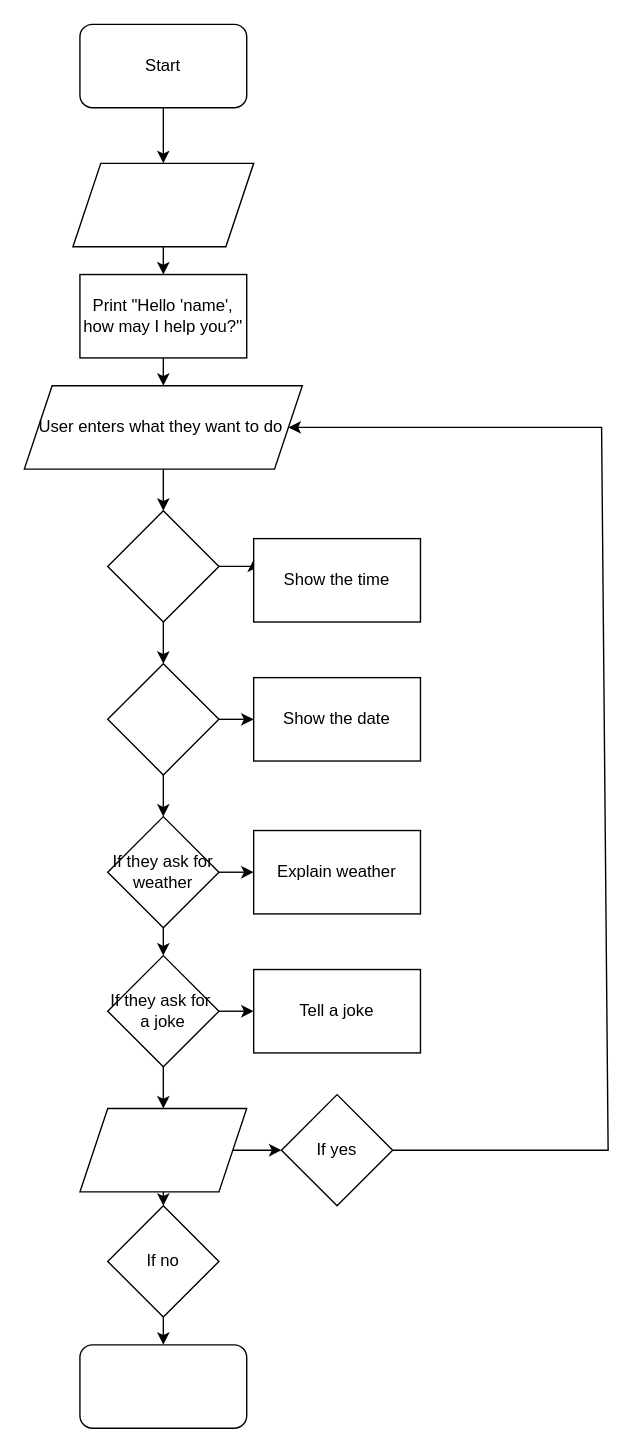
Image size: 644x1453. Some labels were removed from this diagram. Each missing label, with the box of its shape:
Continue?: (79, 1107, 247, 1192)
End: (79, 1343, 247, 1428)
If they ask for the date: (106, 662, 219, 775)
If they ask for time: (106, 509, 219, 622)
What is your name?: (72, 162, 254, 247)
